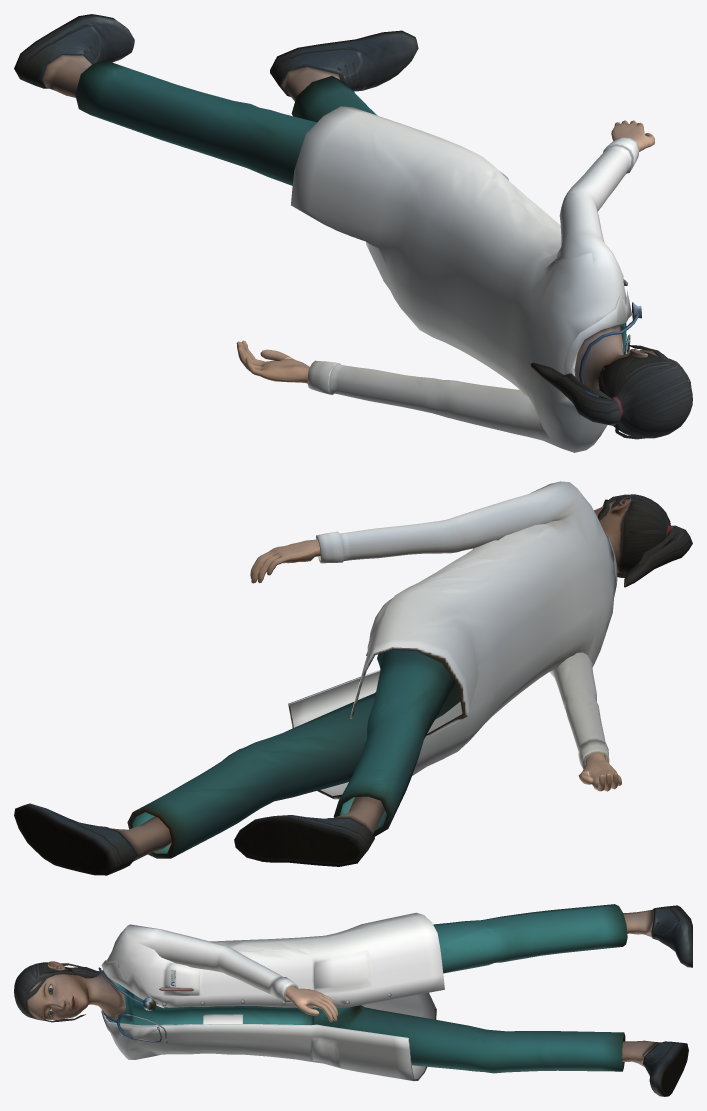
Rendered from walk.obj.
The picture shows the model from 3 angles, top to bottom: view 1: azimuth 30°, elevation 25°; view 2: azimuth 150°, elevation 25°; view 3: azimuth 270°, elevation 25°; orthographic projection. The views are drawn at different scales.
Size of the model in its own units: 0.8294 by 0.3726 by 1.7.
Materials: 1 (1 with a texture image).
